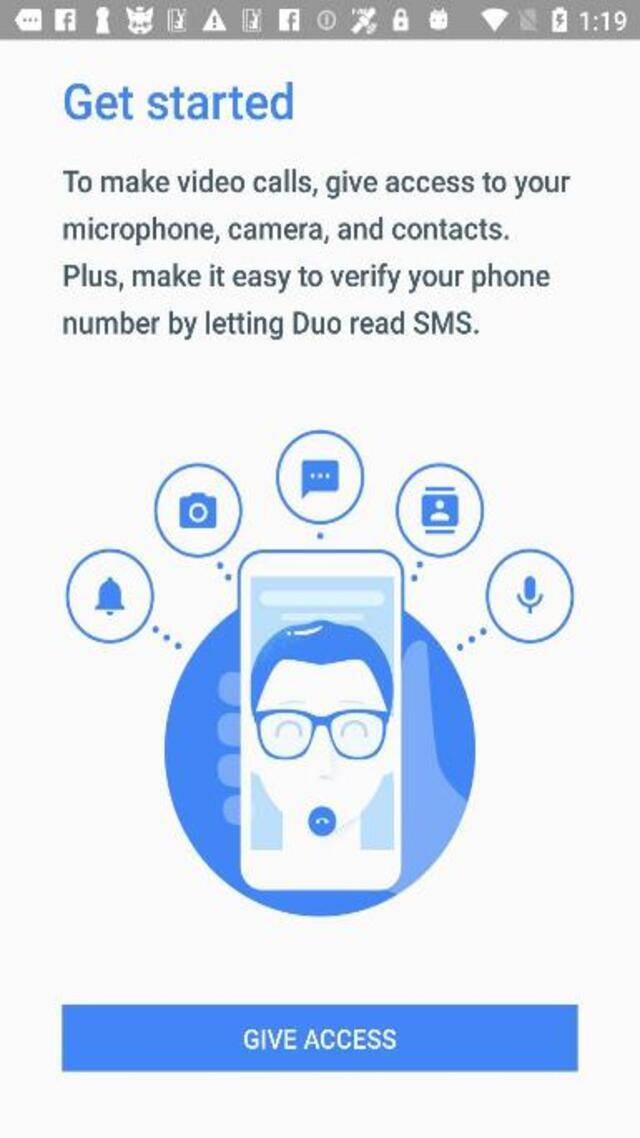Image: (67, 429, 576, 918)
Text: (62, 169, 570, 340), (65, 82, 294, 121), (241, 1023, 401, 1057)
TextButton: (61, 1002, 576, 1070)
